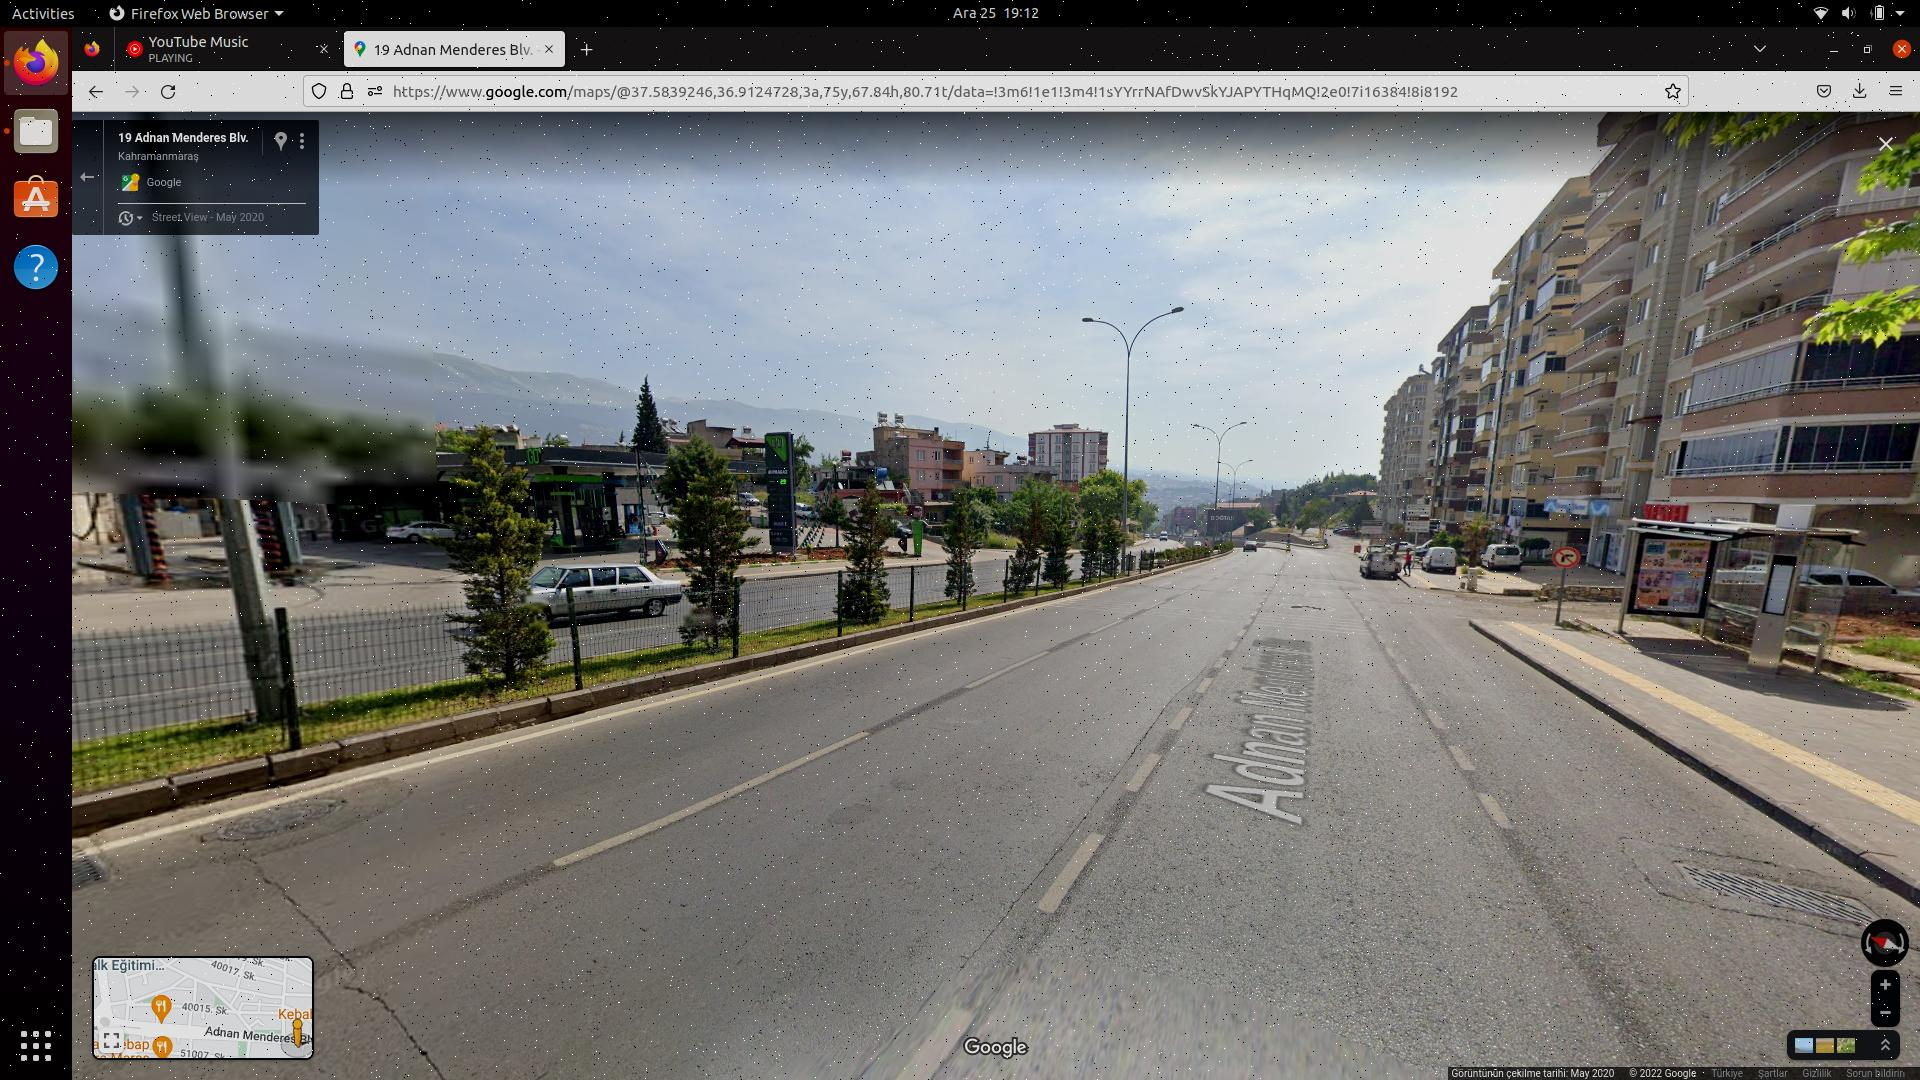rightturnsareforbidden: (1552, 547, 1581, 567)
